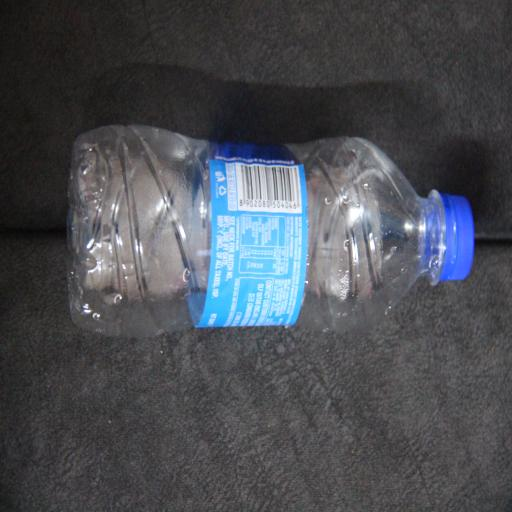Aquafina: (88, 57, 221, 512)
